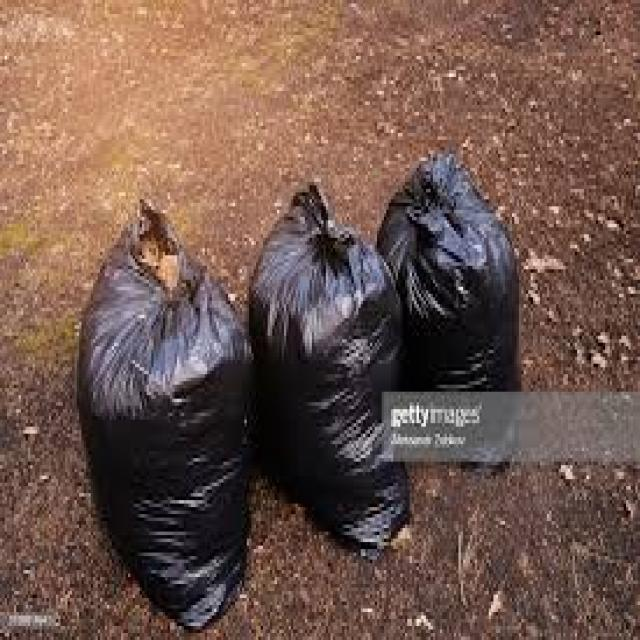garbage: (76, 207, 254, 616), (235, 172, 407, 552), (363, 119, 524, 392)
